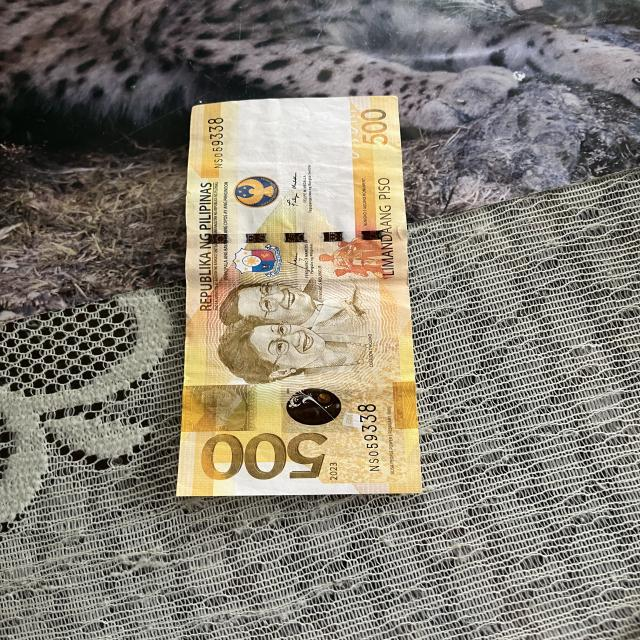concealed_value: (182, 385, 259, 432)
optically_variable_device: (280, 385, 344, 427)
security_thread: (199, 231, 384, 243)
see_through_mark: (347, 107, 367, 160)
value: (200, 432, 328, 482)
